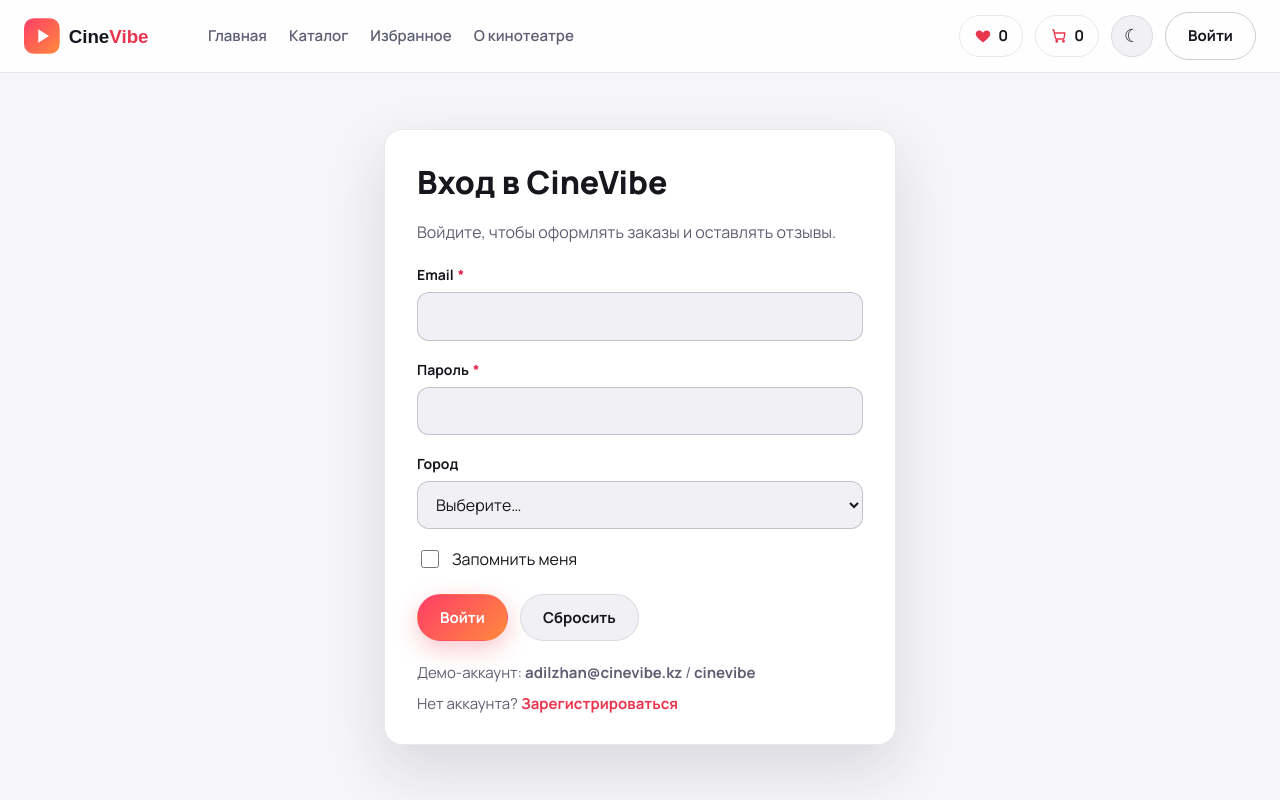
Test: Вход › пустые поля — «Обязательное поле»
The width and height of the screenshot is (1280, 800).
Step 1. Click the button "Войти" below "Запомнить меня" → {"x": 462, "y": 617}, box x1=417 y1=594 x2=508 y2=641
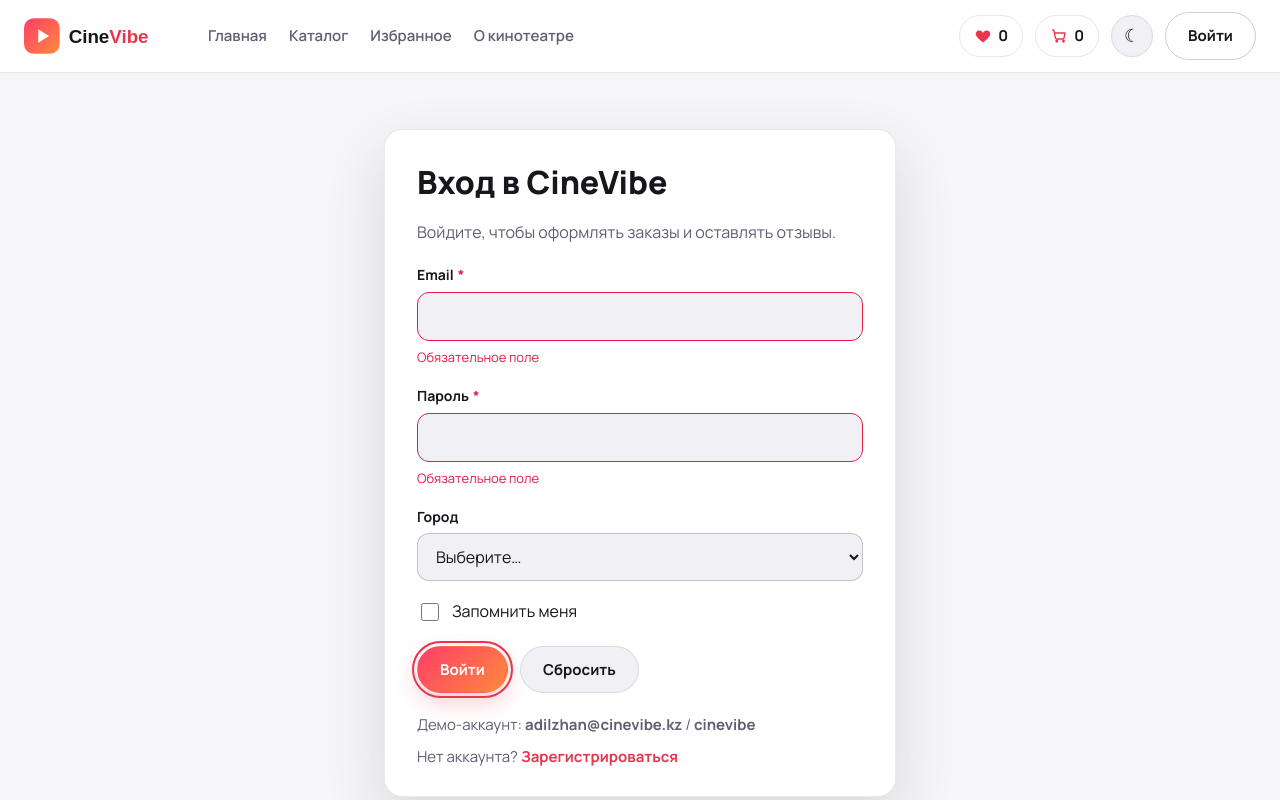
expect the text "Обязательное поле" is shown 2 times: met, box x1=417 y1=348 x2=539 y2=366; x1=417 y1=468 x2=539 y2=486
